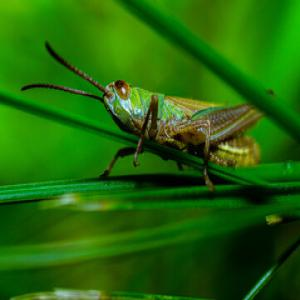locust: (65, 56, 272, 187)
